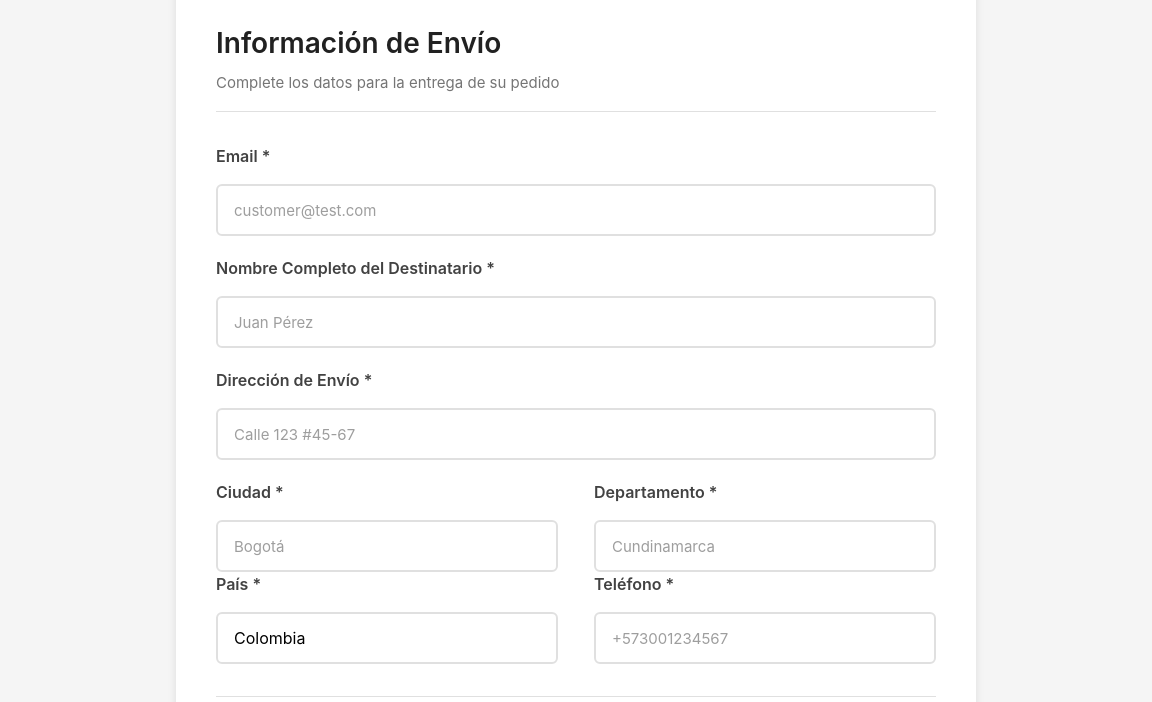
Test case: DeliveryForm Component › Validaciones de campos requeridos › debe mostrar error cuando el país está vacío
The image size is (1152, 702).
// Clear the default 'Colombia' value
Clear the field labelled "País *" at (387, 638), box [216,612,558,664]
(page scrolled)
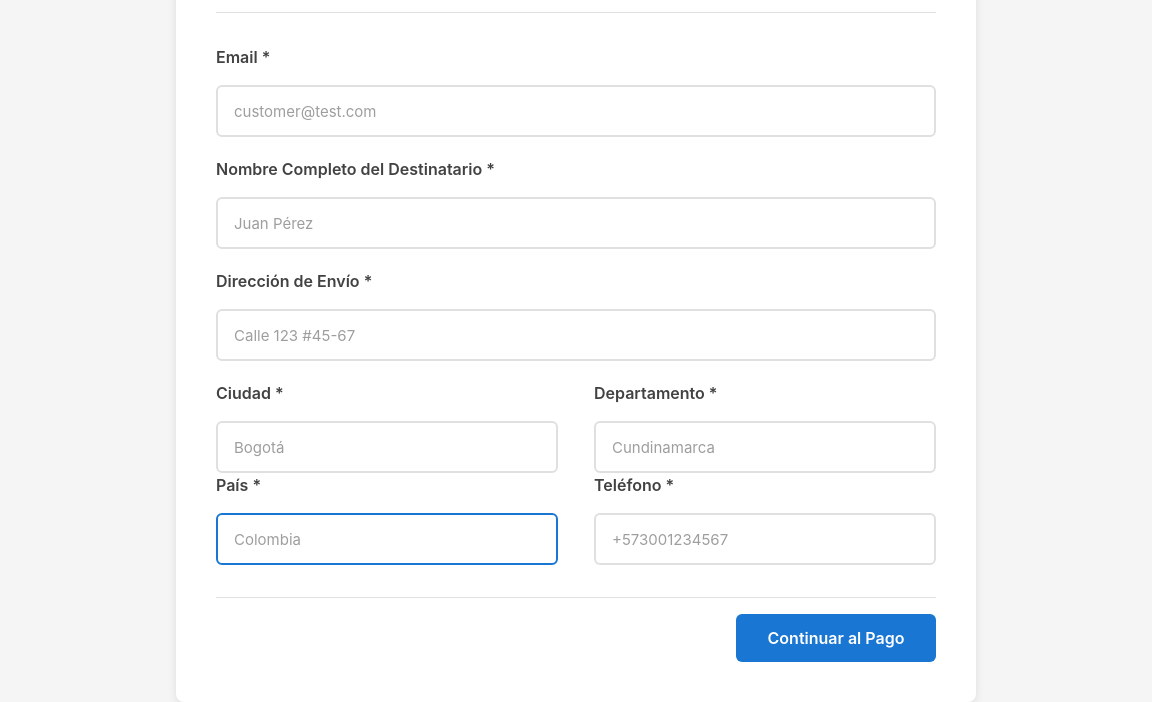
Click the button "Continuar al Pago".
click(836, 638)  # box [736,614,936,662]
(page scrolled)
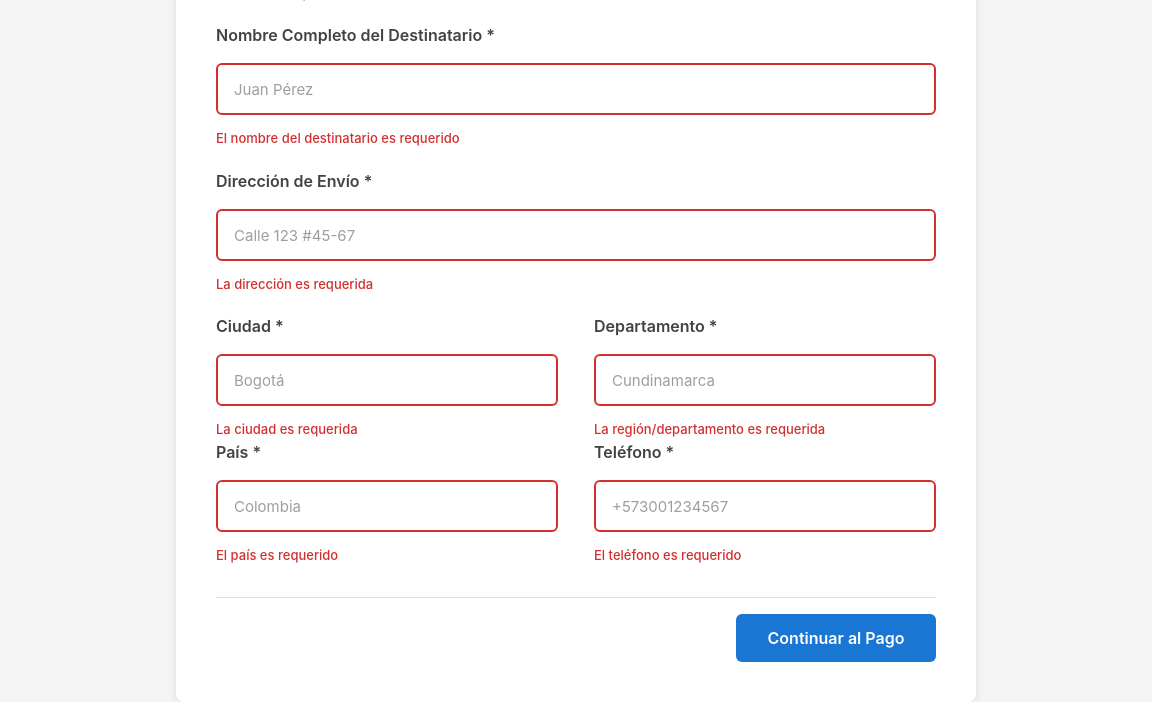
expect the text "El país es requerido" is shown: met, box [216,546,338,562]
